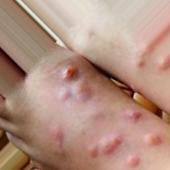Fleas: (93, 129, 125, 158), (72, 80, 91, 102), (49, 126, 63, 153), (59, 64, 78, 81), (84, 142, 102, 159), (57, 86, 72, 102), (126, 110, 143, 122), (143, 133, 161, 144), (158, 55, 169, 70), (126, 155, 139, 167), (136, 57, 145, 68)
